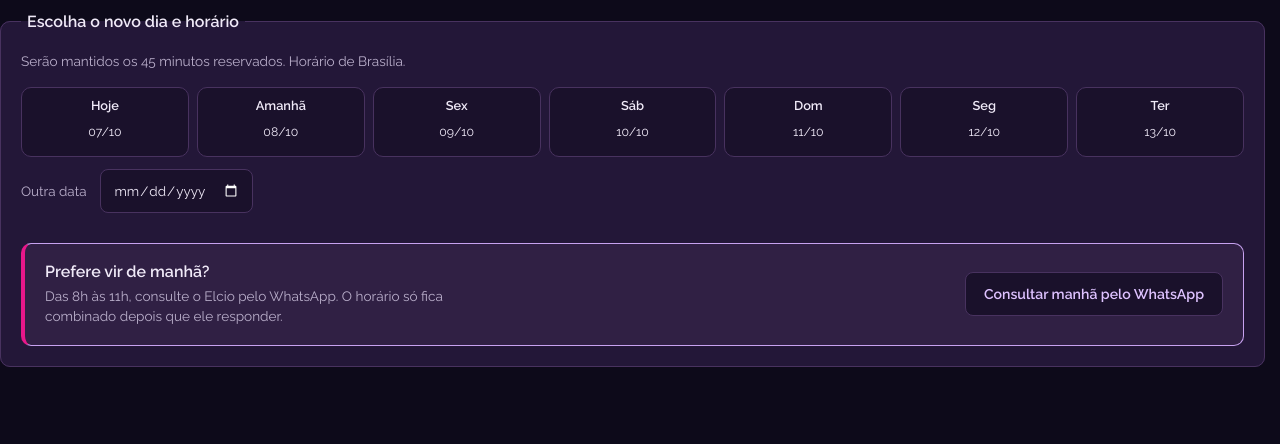
Test: a client cannot reschedule into the WhatsApp-only morning
This screenshot has width=1280, height=444.
In the date field labelled "Outra data": (177, 191) top-left (100, 169), bottom-right (253, 213), type "2099-10-02"
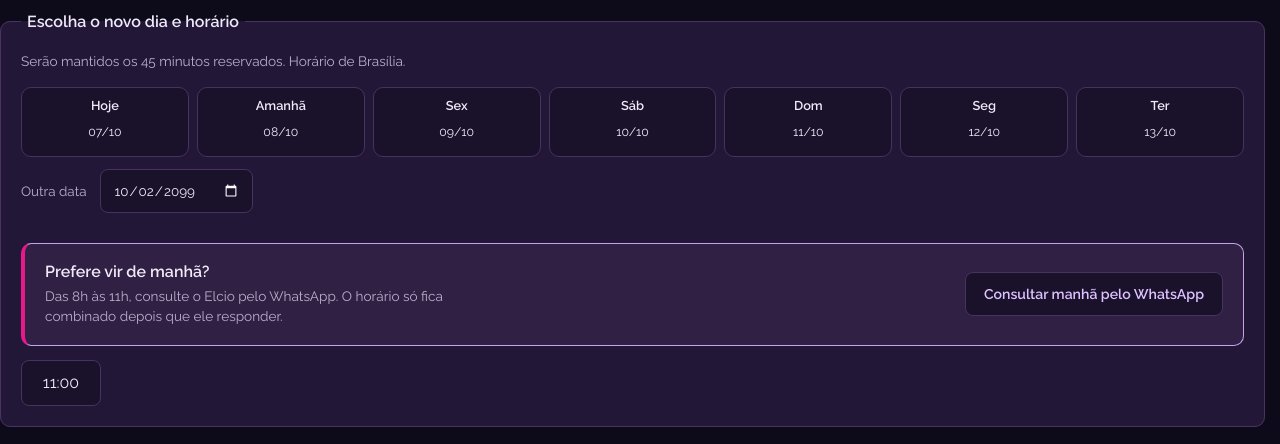
Expected: the link "Consultar manhã pelo WhatsApp" is shown, top-left (965, 272), bottom-right (1223, 316)
Now the button "11:00" is shown, box top-left (21, 360), bottom-right (101, 406)
